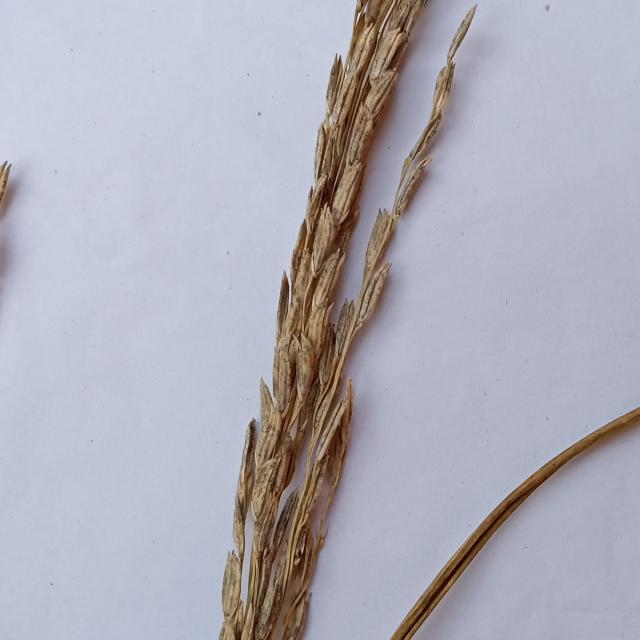Neck_Blast: (224, 4, 421, 638), (264, 149, 439, 639)
